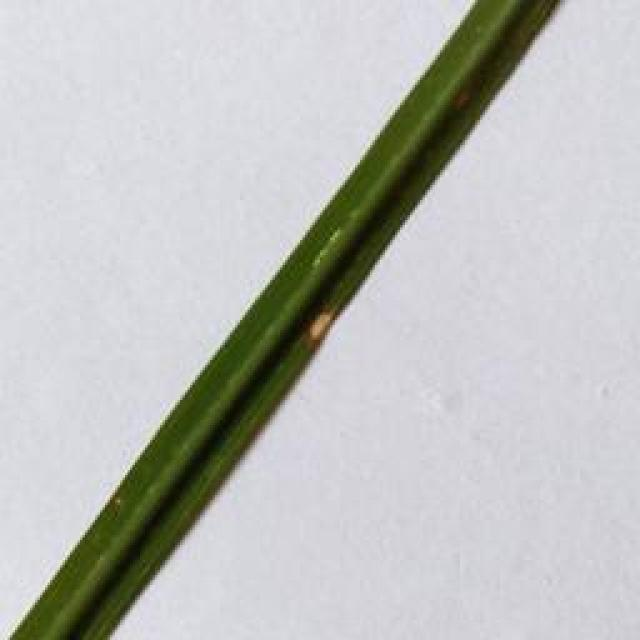Unhealthy: (306, 306, 338, 347)
